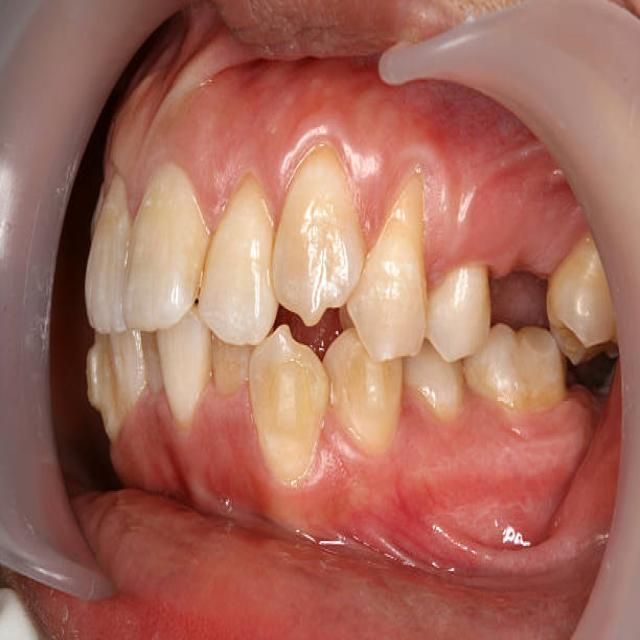swelling: (180, 143, 250, 243), (436, 199, 508, 280), (304, 405, 366, 483), (284, 113, 362, 174)
